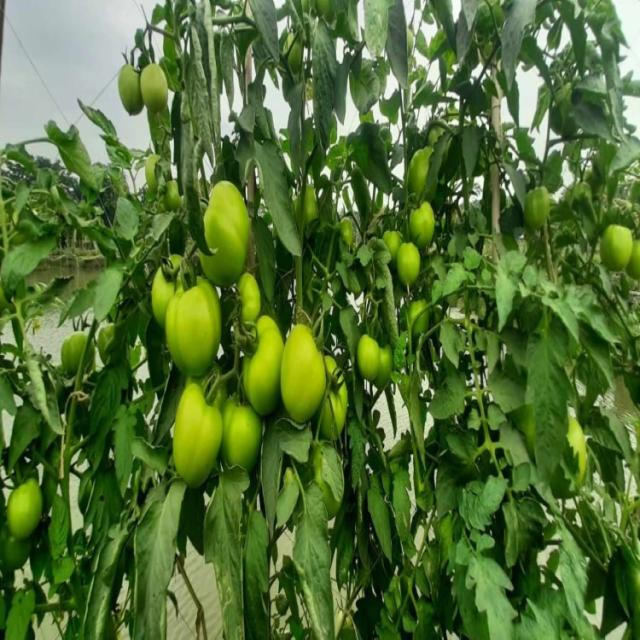tomato: (145, 265, 217, 381), (200, 173, 259, 263), (169, 384, 217, 482), (288, 324, 323, 419), (5, 475, 53, 539), (562, 416, 600, 489), (245, 323, 276, 409), (227, 411, 262, 472), (601, 221, 640, 275), (357, 334, 393, 387), (329, 354, 348, 442), (62, 330, 93, 382), (397, 245, 430, 289), (145, 153, 175, 199), (145, 56, 171, 109), (411, 148, 438, 199), (122, 56, 142, 120), (527, 183, 555, 226), (239, 279, 264, 319), (413, 206, 436, 248), (408, 300, 433, 337), (288, 30, 313, 66), (335, 214, 356, 252), (383, 224, 398, 263), (101, 324, 119, 356)
